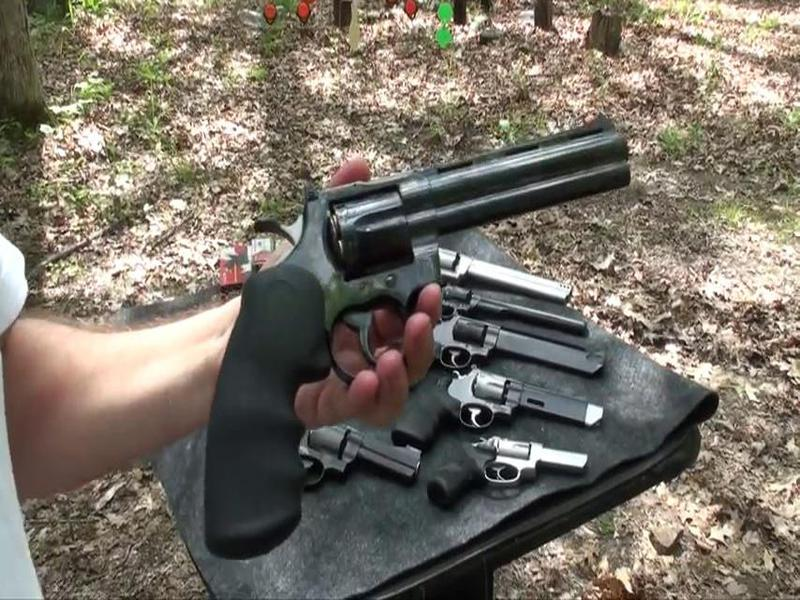Revolver: (185, 112, 649, 570)
